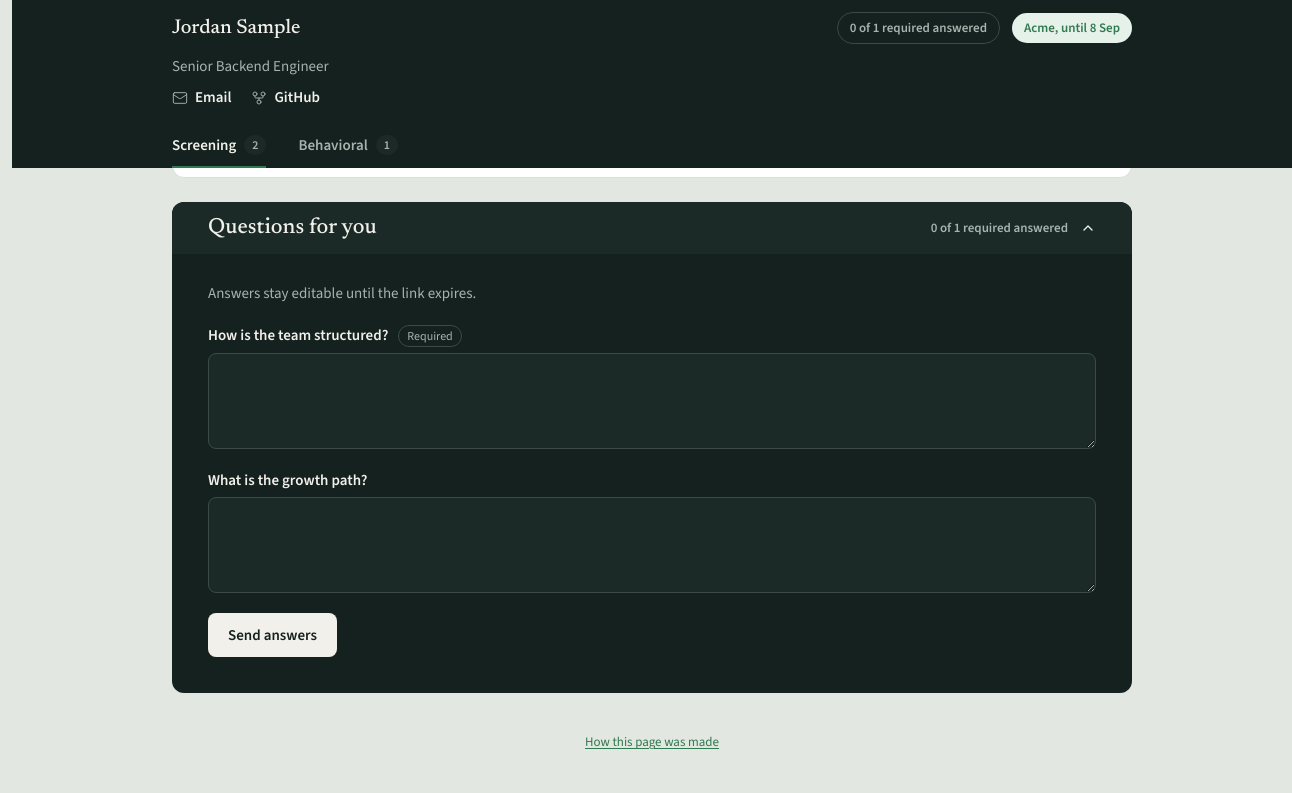
Scenario: SessionPage › shows a form error when the session went missing mid-submit
(page scrolled)
Expected: the heading "Jordan Sample" is shown, [172,18,300,38]
Type "x" into the text box labelled "How is the team structured? Required".
click(652, 401); type("x")  # box [208,353,1096,449]
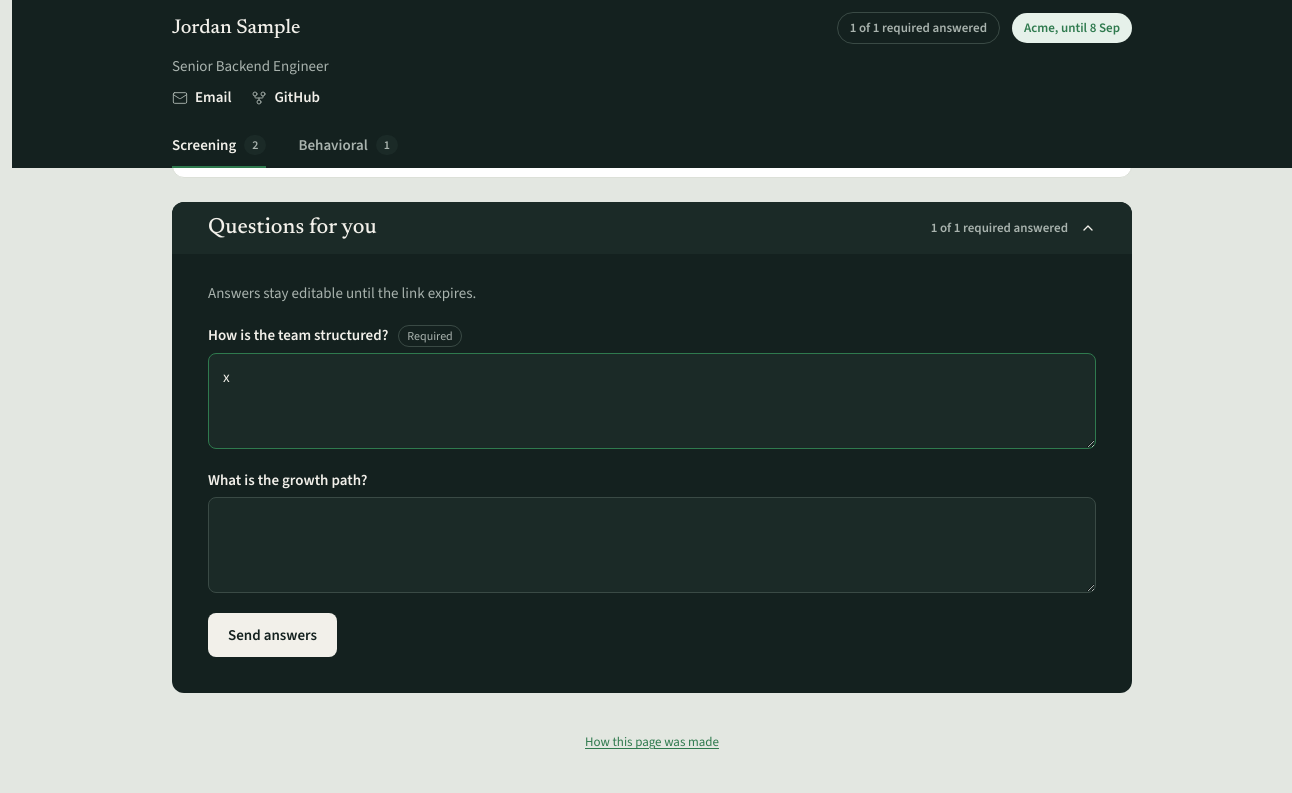
Click the button "Send answers".
click(272, 635)  # box [208,613,337,657]
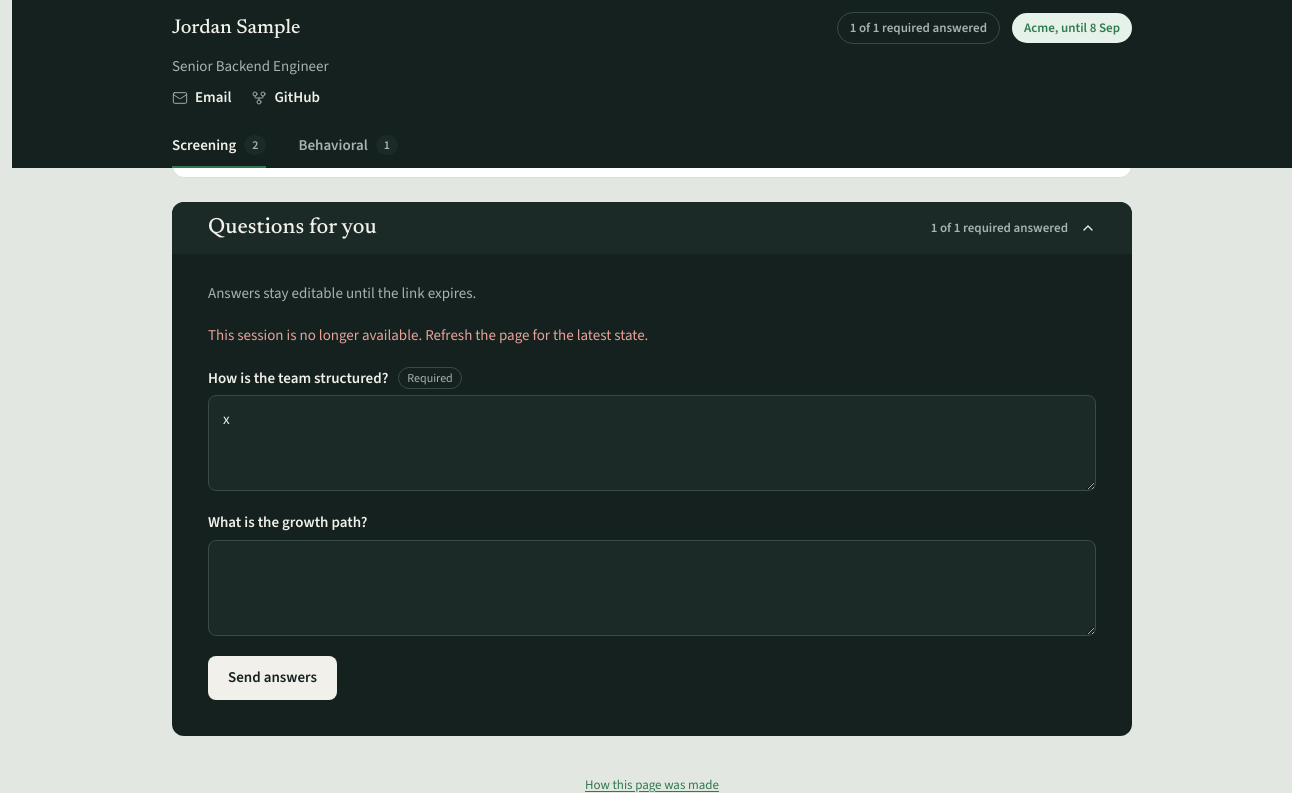
Expected: the text "This session is no longer available. Refresh the page for the latest state." is shown, [208,325,648,345]
